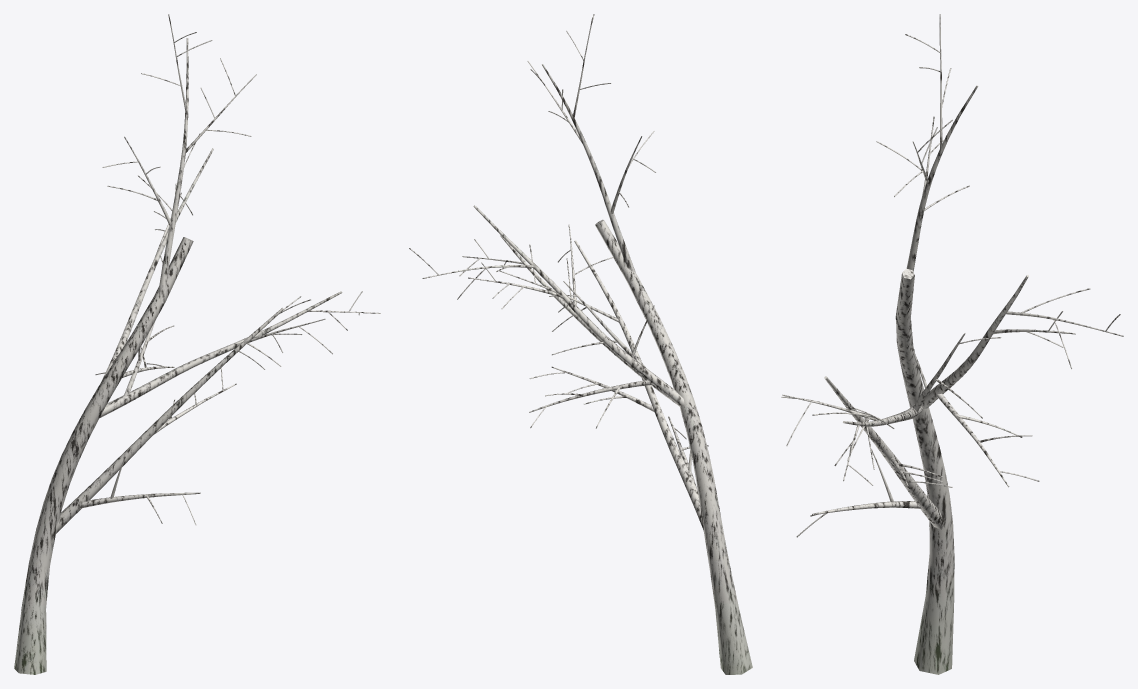
Rendered from birch1_trunk.glb.
3 views of the same model, side by side, from view 1: azimuth 30°, elevation 25°; view 2: azimuth 150°, elevation 25°; view 3: azimuth 270°, elevation 25° (orthographic). The views are drawn at different scales.
Parts seen in each view (by area): view 1: trunk; view 2: trunk; view 3: trunk.
Boxes of the visible parts, left/top/right/bottom form: trunk: left=14, top=14, right=380, bottom=674; trunk: left=409, top=14, right=752, bottom=674; trunk: left=781, top=14, right=1123, bottom=674.
Size of the model in its own units: 5.8 by 10.56 by 4.46.
Materials: 1 (1 with a texture image).
